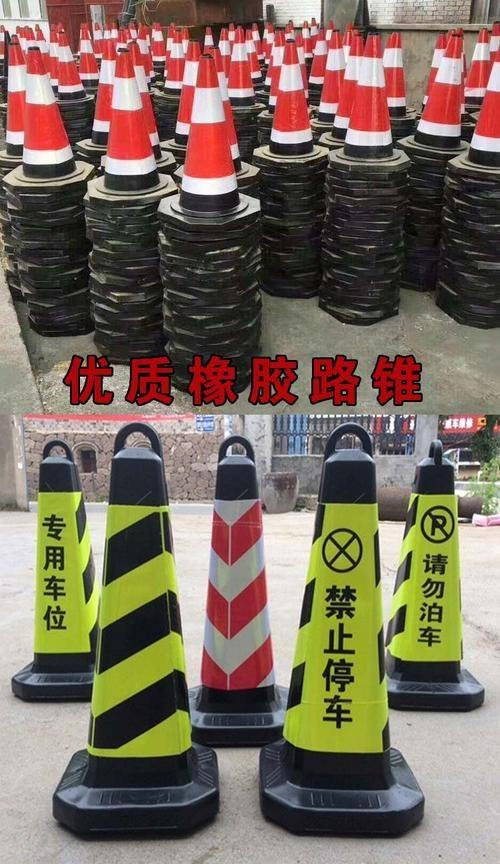cone_barrel: (268, 438, 416, 834), (63, 437, 209, 831), (187, 446, 290, 745), (378, 444, 484, 712), (14, 452, 104, 696), (173, 45, 247, 222), (92, 43, 165, 203), (332, 29, 401, 166), (15, 45, 78, 184), (413, 29, 469, 152), (264, 30, 316, 161), (462, 28, 498, 170), (2, 35, 28, 160), (226, 28, 258, 108), (382, 31, 411, 118), (464, 29, 491, 106)
